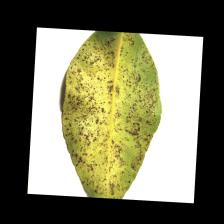canker: (80, 70, 139, 172)
